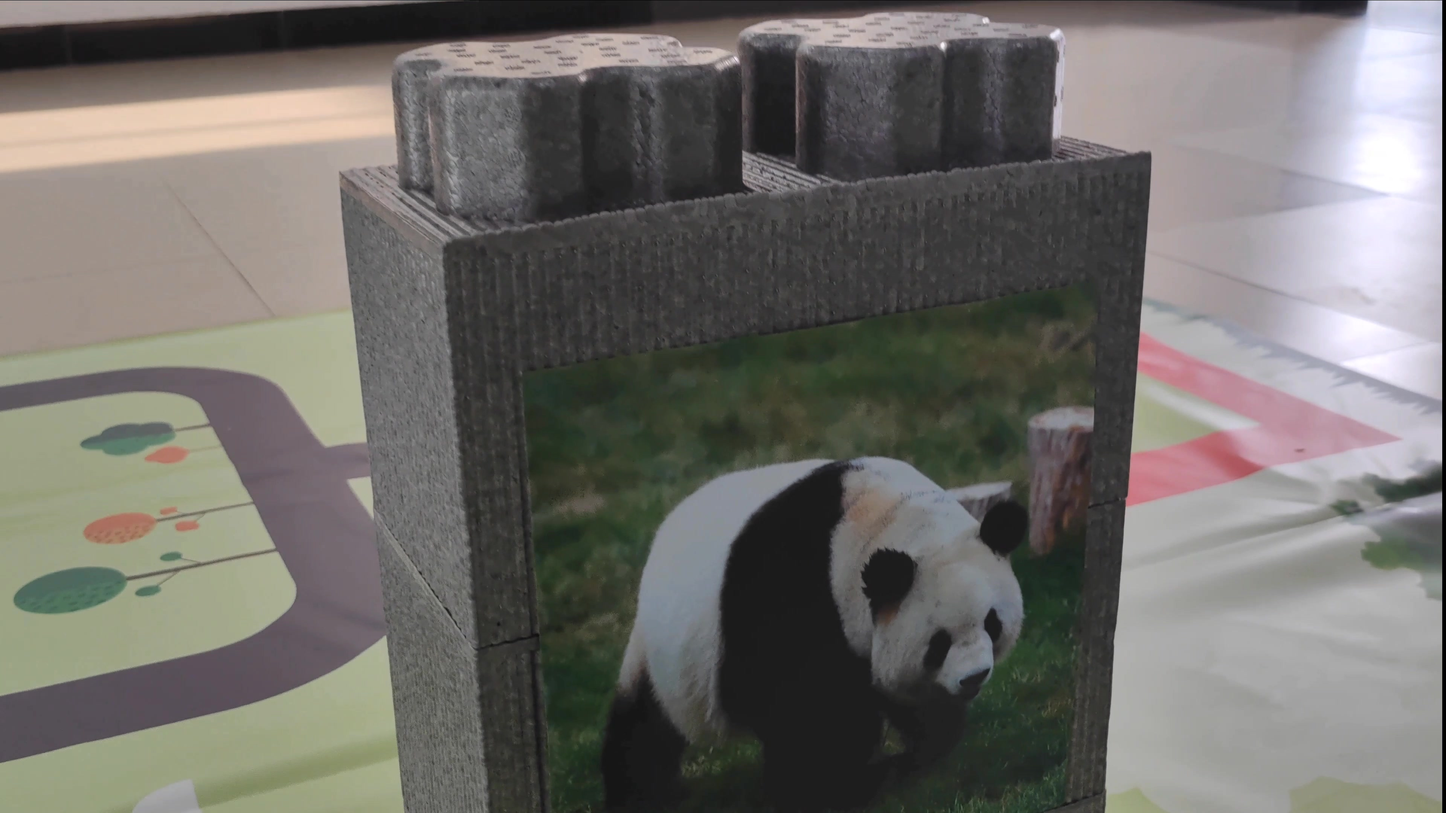panda: (578, 453, 1053, 805)
